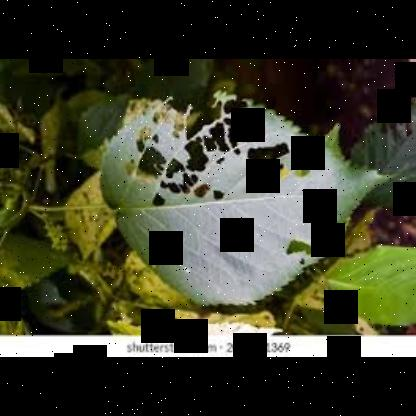agujero: (188, 92, 218, 139), (247, 140, 290, 170), (162, 93, 186, 141), (138, 144, 164, 182), (162, 173, 202, 196), (184, 134, 208, 172), (205, 122, 231, 156), (134, 126, 162, 152), (222, 116, 242, 152), (222, 97, 254, 117), (284, 238, 316, 256), (244, 126, 270, 146), (166, 158, 184, 180), (272, 160, 288, 182), (296, 164, 314, 180), (198, 184, 210, 200), (127, 160, 136, 176), (152, 196, 166, 206), (216, 155, 228, 165), (214, 187, 224, 199), (233, 110, 247, 118), (152, 114, 160, 124), (234, 148, 244, 156), (298, 260, 308, 266)
